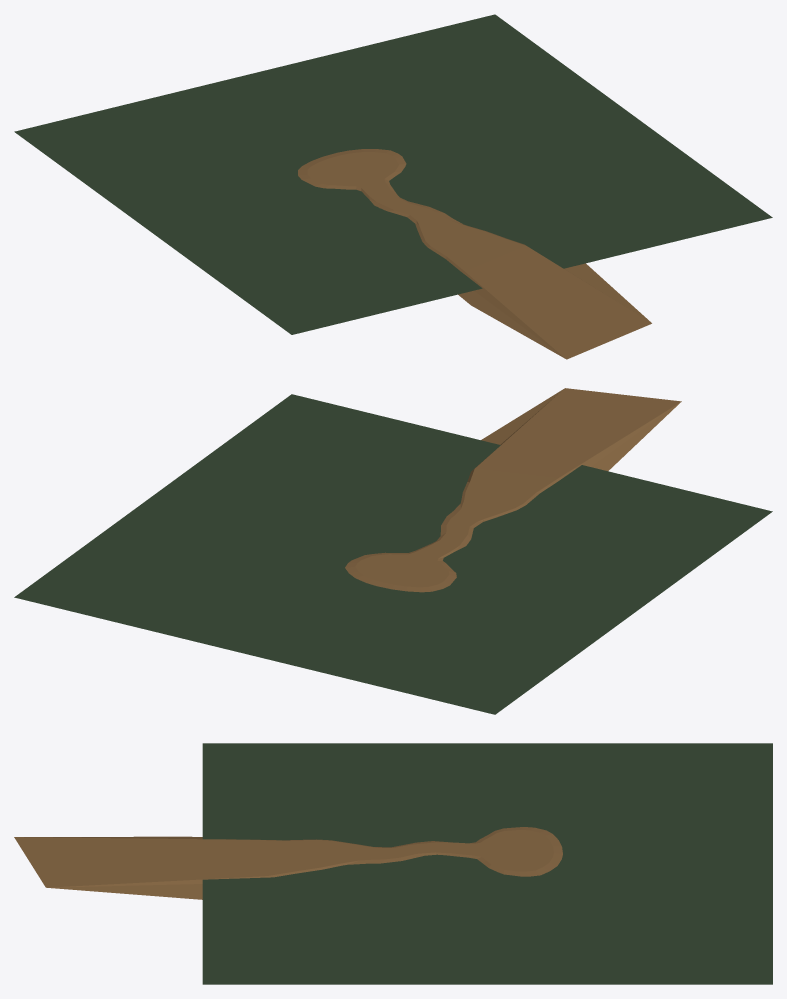
Rendered from Chão Jogável5.fbx.
3 views of the same model, one above another, from view 1: azimuth 30°, elevation 25°; view 2: azimuth 150°, elevation 25°; view 3: azimuth 270°, elevation 25° (orthographic). The views are drawn at different scales.
Visible parts, largest first — view 1: Plane.004; view 2: Plane.004; view 3: Plane.004.
Part boxes in pixels (x1=…): Plane.004: x1=14, y1=14, x2=772, y2=359; Plane.004: x1=14, y1=388, x2=772, y2=714; Plane.004: x1=14, y1=743, x2=772, y2=984.
Size of the model in its own units: 30680 by 482 by 40832.
